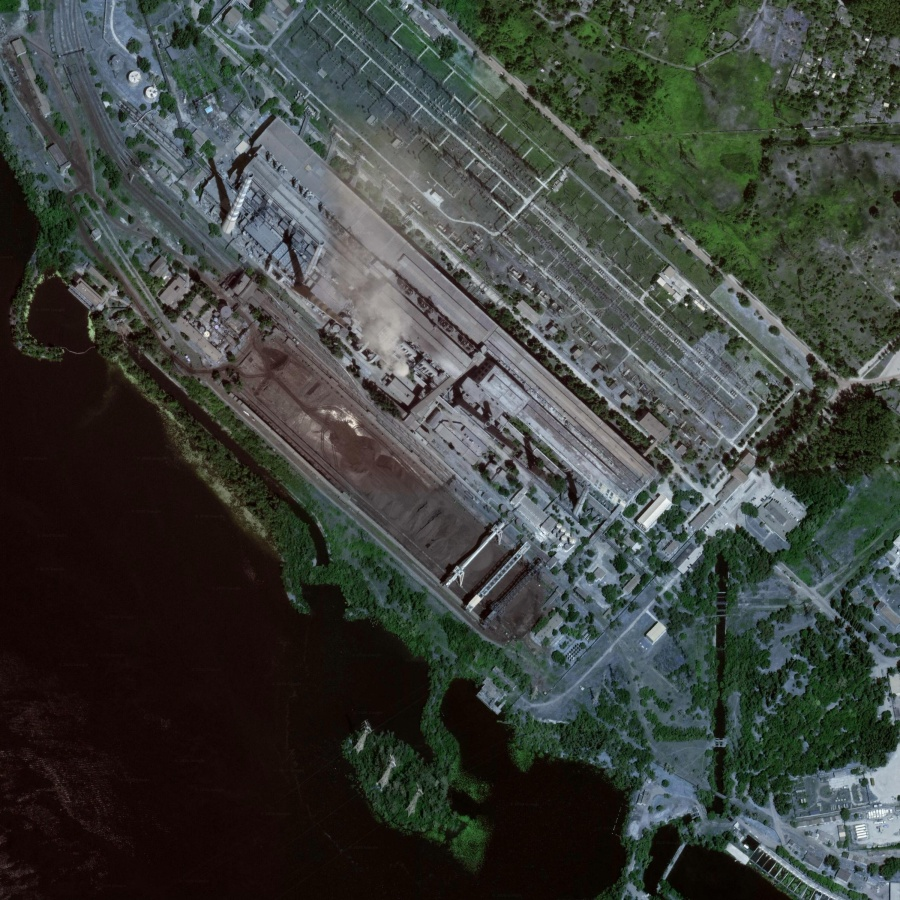PowerPlant: (178, 143, 611, 642)
